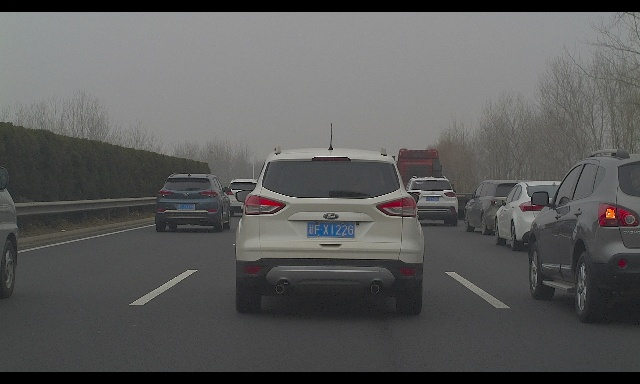car: (235, 146, 425, 315), (528, 149, 640, 323), (494, 181, 575, 251), (155, 173, 231, 232), (463, 179, 536, 235), (404, 176, 459, 226), (0, 167, 18, 298), (223, 178, 268, 217)
truck: (394, 148, 479, 219)
